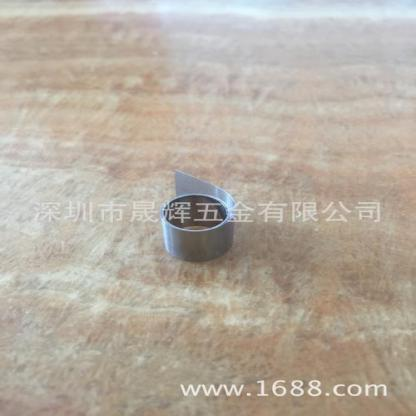FOD: (157, 169, 242, 266)
